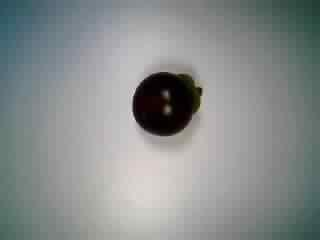mangosteen: (127, 59, 209, 144)
